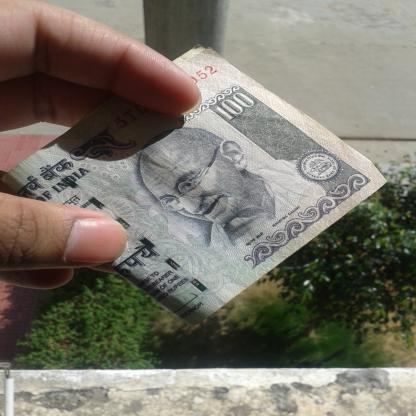Old100Front: (0, 43, 391, 329)
